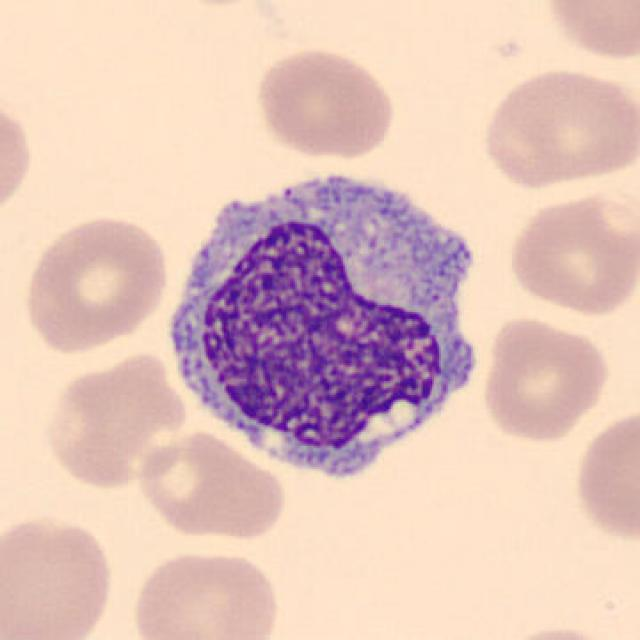Monocyte: (155, 152, 500, 499)
RBC: (39, 345, 192, 492), (19, 210, 172, 356), (476, 64, 636, 190), (130, 427, 290, 543), (478, 312, 614, 446), (503, 187, 638, 319), (249, 44, 398, 162), (0, 509, 117, 640), (126, 545, 284, 640), (569, 402, 638, 548), (537, 0, 640, 65), (0, 89, 37, 229), (490, 622, 628, 640)
